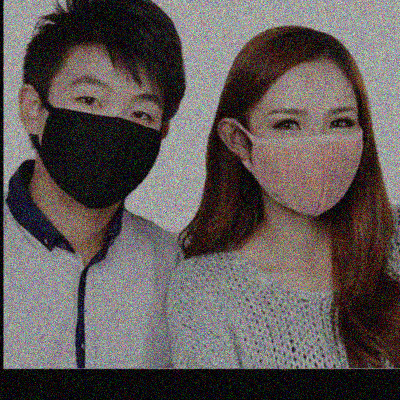with_mask: (39, 71, 160, 212), (249, 103, 365, 219)
